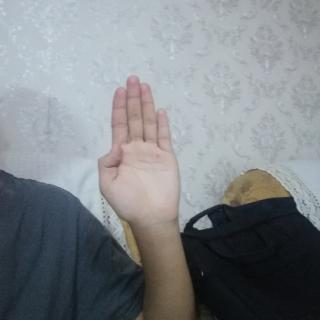SEEN: (84, 73, 196, 240)
